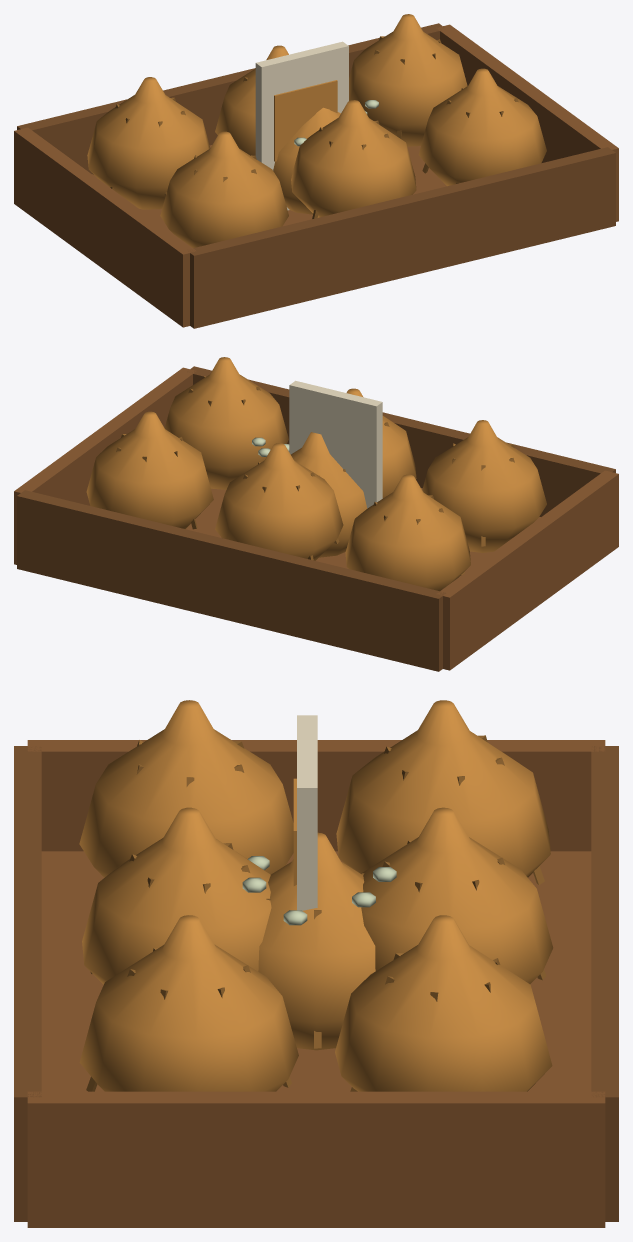
The model's file is Veg_Onion.fbx.
3 renders of one model, top to bottom at view 1: azimuth 30°, elevation 25°; view 2: azimuth 150°, elevation 25°; view 3: azimuth 270°, elevation 25°, orthographic. The views are drawn at different scales.
Parts seen in each view (by area): view 1: Veg_Onion__Stack, Veg_Onion__Seed, Veg_Onion; view 2: Veg_Onion__Stack, Veg_Onion__Seed, Veg_Onion; view 3: Veg_Onion__Stack, Veg_Onion, Veg_Onion__Seed, Veg_Onion__Rotten.
Boxes of the visible parts, box(x1,y1,x2,y2) form: Veg_Onion__Stack: box(14, 14, 618, 328); Veg_Onion__Seed: box(255, 41, 348, 210); Veg_Onion: box(273, 107, 340, 214); Veg_Onion__Stack: box(14, 357, 618, 671); Veg_Onion__Seed: box(289, 380, 382, 508); Veg_Onion: box(291, 432, 367, 557); Veg_Onion__Stack: box(14, 700, 618, 1227); Veg_Onion: box(258, 832, 375, 1050); Veg_Onion__Seed: box(293, 715, 317, 910); Veg_Onion__Rotten: box(242, 856, 396, 925).
Size of the model in its own units: 0.25 by 0.09 by 0.176.
